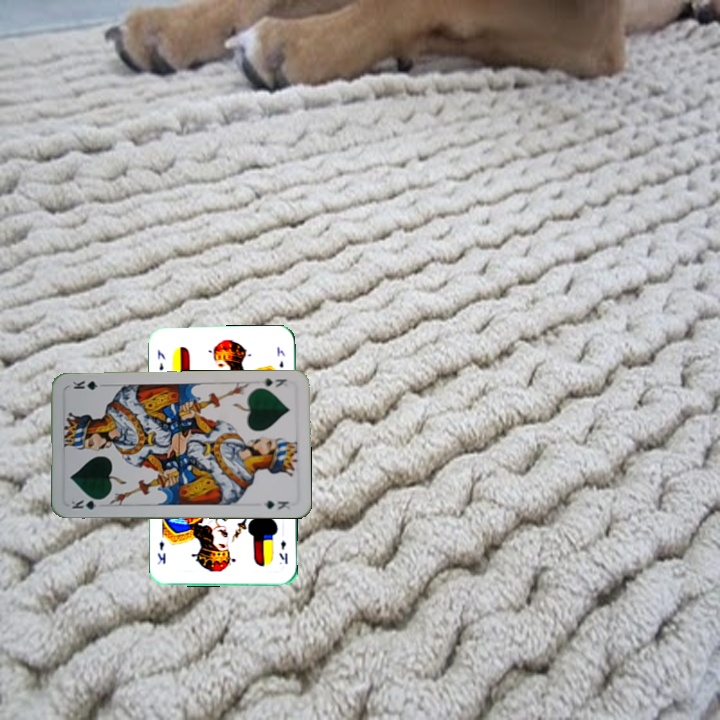EK: (275, 536, 290, 567), (154, 345, 168, 373)
GK: (67, 495, 106, 512), (256, 374, 289, 389)
